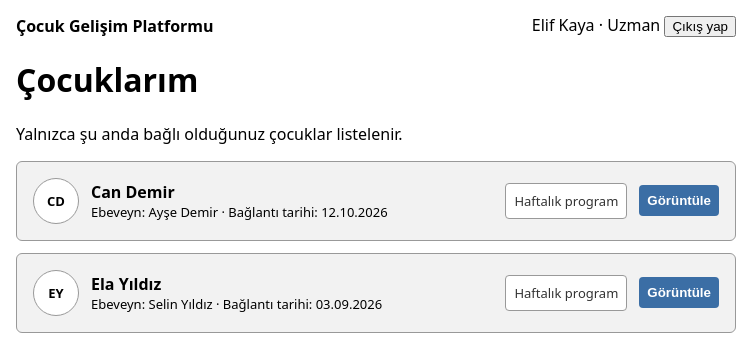
Test: SpecialistChildrenPage › shows access denied and drops the child after a 403 (Flow 3)
The width and height of the screenshot is (753, 350).
Step 1. Click the button "Görüntüle" in the row of "12.10.2026" → (679, 201), box [639,185,719,216]
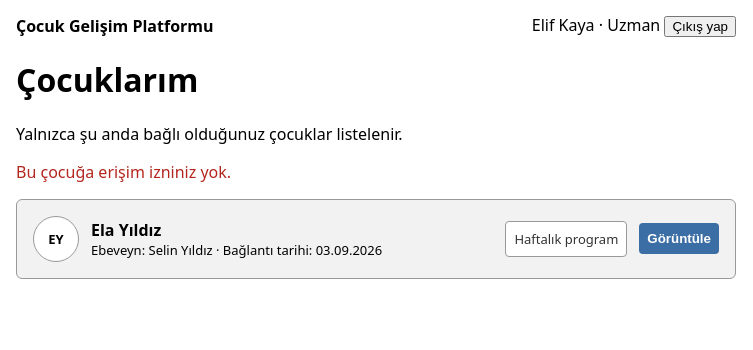
Expected: the text "Ela Yıldız" is shown, [91,219,161,241]
Result: the message reads "Bu çocuğa erişim izniniz yok." at [16,161,231,183]
Result: the text "Can Demir" is gone
